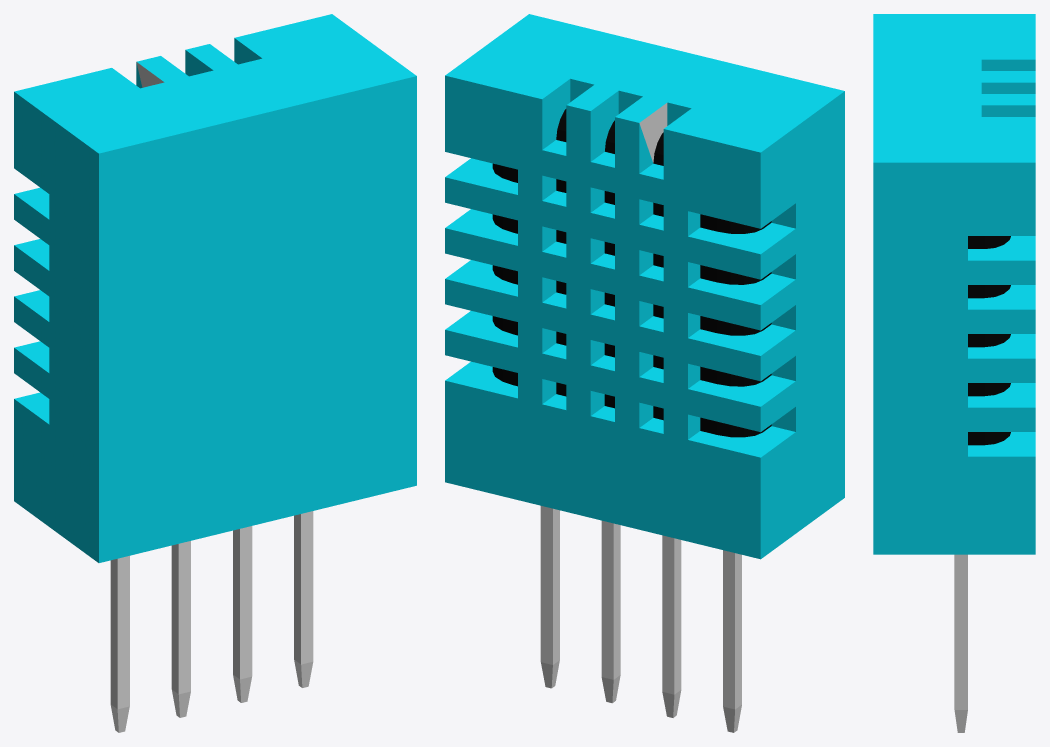
File: DHTSensor.glb
The picture shows the model from 3 angles, left to right: view 1: azimuth 30°, elevation 25°; view 2: azimuth 150°, elevation 25°; view 3: azimuth 270°, elevation 25°; orthographic projection. The views are drawn at different scales.
Parts seen in each view (by area): view 1: Cube, OUTPUT, VIN, GND, NOT; view 2: Cube, VIN, NOT, OUTPUT, GND; view 3: Cube, VIN.
Boxes of the visible parts, x1,y1,x2,y2 form: Cube: [14, 14, 416, 562]; OUTPUT: [233, 526, 252, 702]; VIN: [294, 511, 313, 687]; GND: [110, 555, 129, 732]; NOT: [171, 541, 190, 717]; Cube: [445, 14, 844, 559]; VIN: [540, 506, 559, 688]; NOT: [662, 535, 681, 717]; OUTPUT: [601, 520, 620, 703]; GND: [723, 550, 741, 732]; Cube: [873, 14, 1035, 554]; VIN: [954, 554, 967, 732].
Bounding box in the file's own units: 0.013 × 0.0245 × 0.006.
